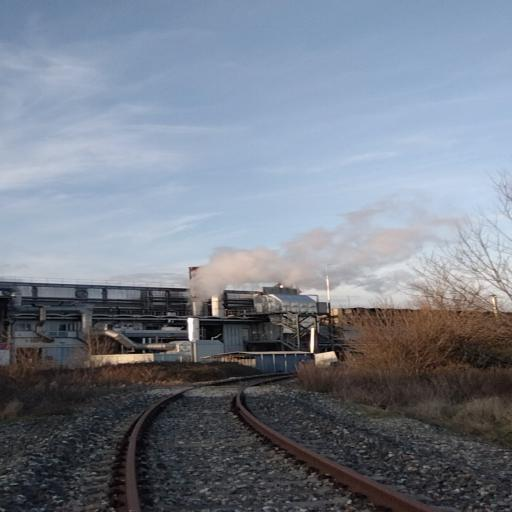leakage: (177, 189, 483, 320)
